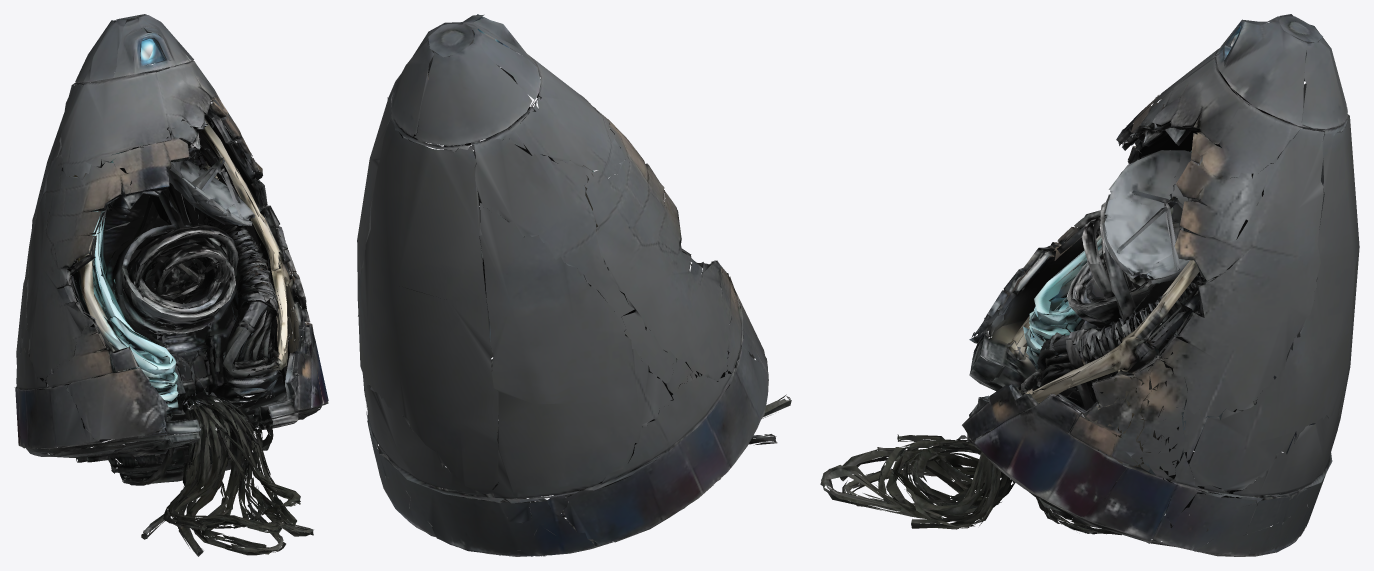
The model's file is scout_tracking_beacon_core.glb.
The picture shows the model from 3 angles, left to right: view 1: azimuth 30°, elevation 25°; view 2: azimuth 150°, elevation 25°; view 3: azimuth 270°, elevation 25°; orthographic projection. The views are drawn at different scales.
Parts seen in each view (by area): view 1: node_0; view 2: node_0; view 3: node_0.
Part boxes in pixels (left/top/right/bottom): node_0: left=14, top=14, right=328, bottom=556; node_0: left=357, top=14, right=791, bottom=556; node_0: left=820, top=14, right=1359, bottom=556.
Bounding box in the file's own units: 0.6458 × 0.9328 × 0.8932.
Materials: 1 (1 with a texture image).
